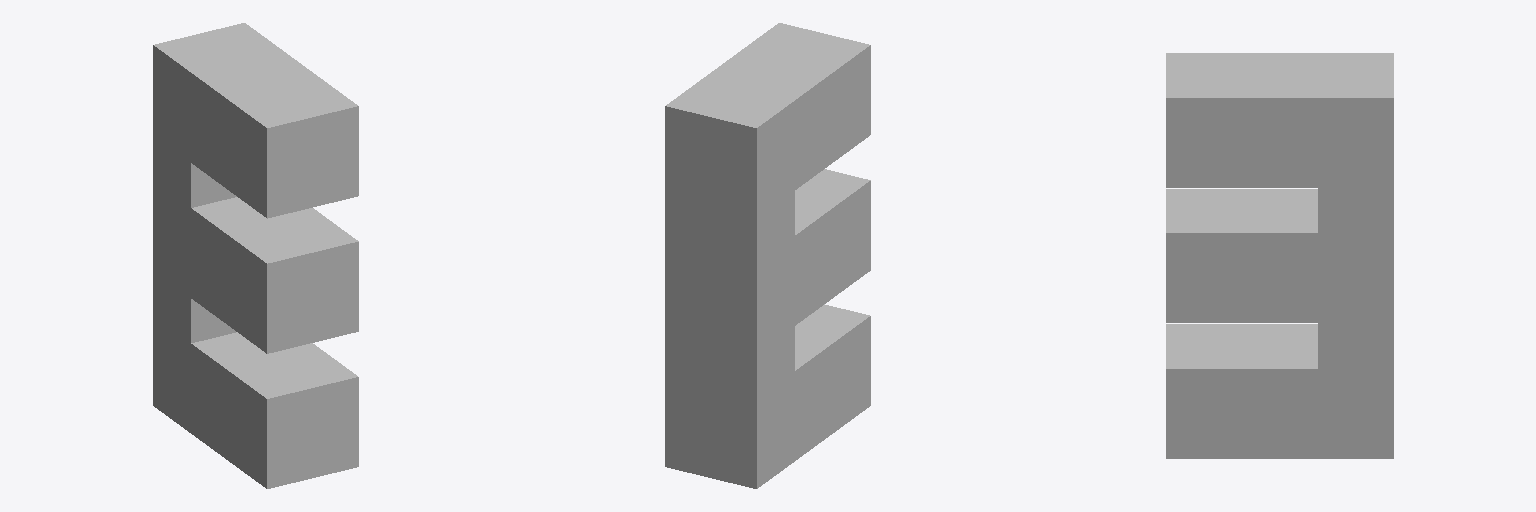
The model's file is letter2.obj.
The picture shows the model from 3 angles: view 1: azimuth 30°, elevation 25°; view 2: azimuth 150°, elevation 25°; view 3: azimuth 270°, elevation 25°; orthographic projection.
Visible parts, largest first — view 1: pCube1; view 2: pCube1; view 3: pCube1.
Part boxes in pixels (left/top/right/bottom): pCube1: left=153, top=23, right=358, bottom=488; pCube1: left=665, top=23, right=870, bottom=488; pCube1: left=1166, top=53, right=1393, bottom=458.
Size of the model in its own units: 0.4636 by 1.75 by 1.